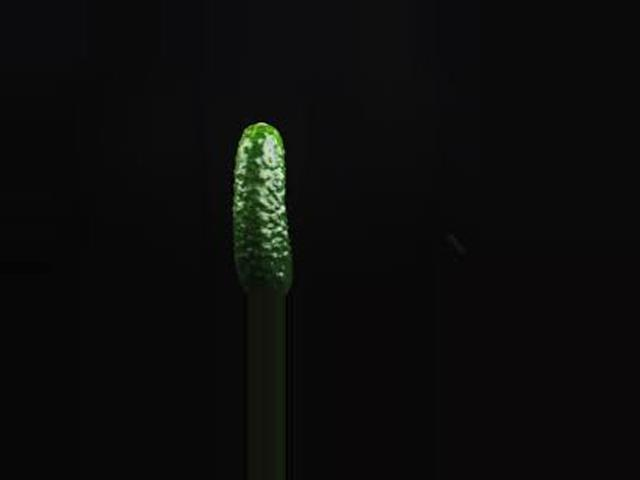cucumber: (232, 121, 294, 298)
